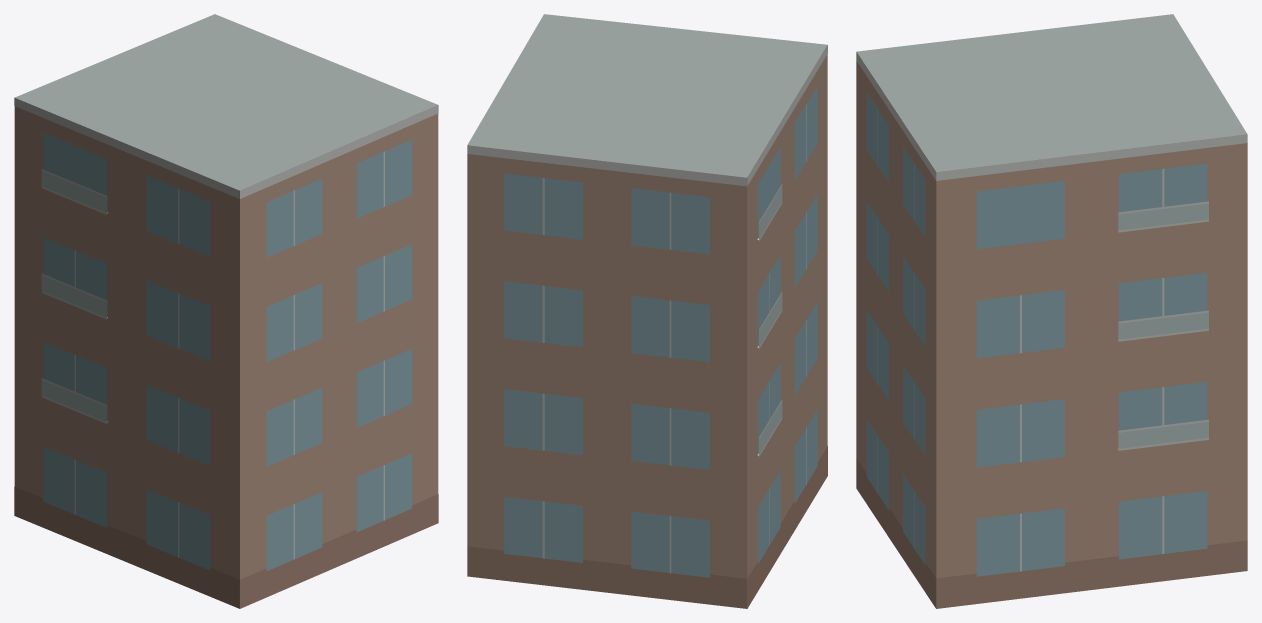
The model's file is residential-f86b3641-a1be-4ddd-887e-aed7a8f32082.glb.
The picture shows the model from 3 angles, left to right: view 1: azimuth 30°, elevation 25°; view 2: azimuth 150°, elevation 25°; view 3: azimuth 270°, elevation 25°; orthographic projection. The views are drawn at different scales.
Parts seen in each view (by area): view 1: residential-f86b3641-a1be-4ddd-887e-aed7a8f32082.tmp; view 2: residential-f86b3641-a1be-4ddd-887e-aed7a8f32082.tmp; view 3: residential-f86b3641-a1be-4ddd-887e-aed7a8f32082.tmp.
Boxes of the visible parts, left/top/right/bottom form: residential-f86b3641-a1be-4ddd-887e-aed7a8f32082.tmp: left=14, top=14, right=438, bottom=608; residential-f86b3641-a1be-4ddd-887e-aed7a8f32082.tmp: left=467, top=14, right=827, bottom=608; residential-f86b3641-a1be-4ddd-887e-aed7a8f32082.tmp: left=856, top=14, right=1247, bottom=608.
Size of the model in its own units: 9.49 by 12.2 by 9.92.
